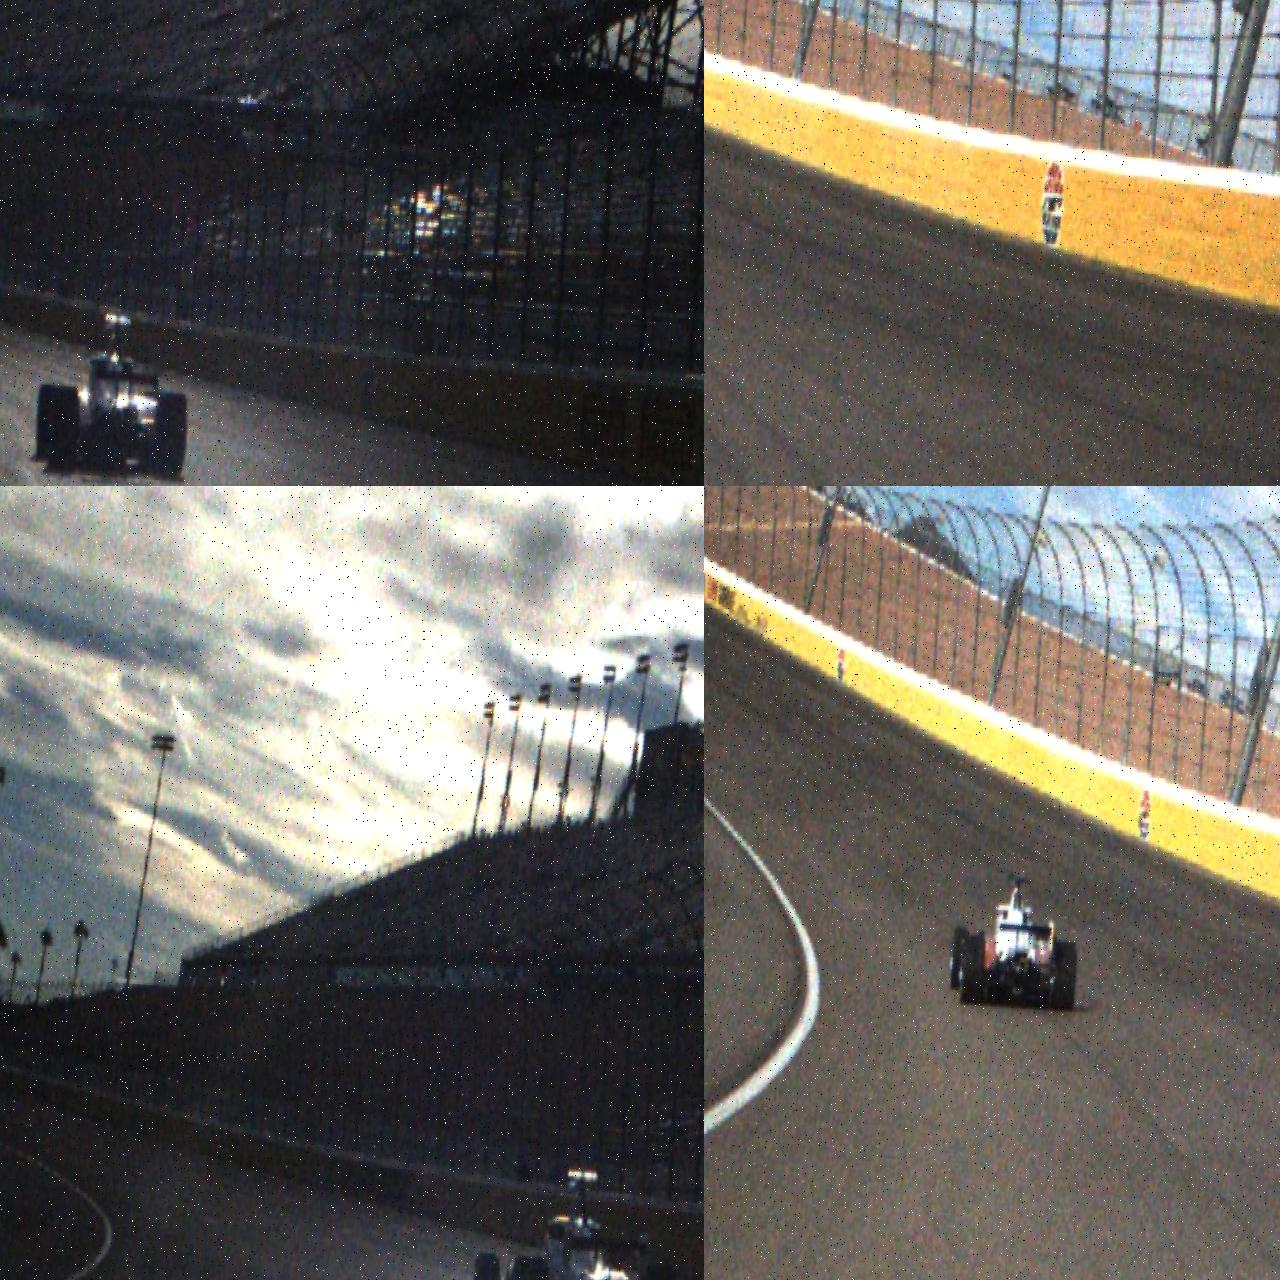AV: (32, 309, 195, 483), (467, 1163, 688, 1280), (947, 870, 1083, 1013)
Wheel: (155, 392, 189, 481), (47, 389, 81, 475), (33, 382, 62, 463), (1050, 941, 1078, 1013), (959, 933, 985, 1007), (948, 926, 971, 992), (505, 1251, 551, 1280), (468, 1250, 503, 1280)
